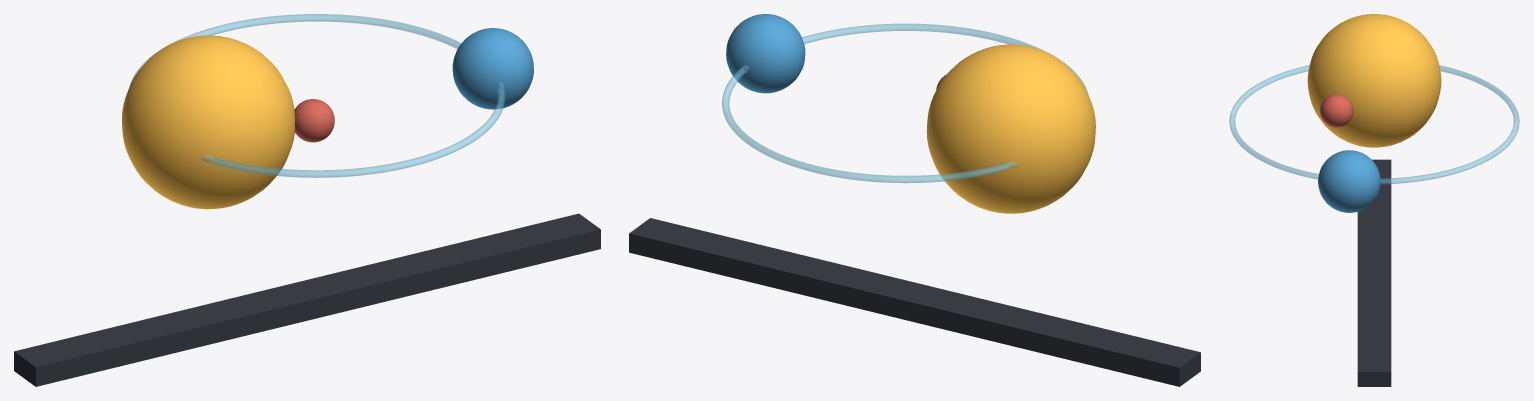
Rendered from space-barycenter.glb.
3 views of the same model, side by side, from view 1: azimuth 30°, elevation 25°; view 2: azimuth 150°, elevation 25°; view 3: azimuth 270°, elevation 25° (orthographic). The views are drawn at different scales.
Visible parts, largest first — view 1: gravity-orbit-bench, heavy-body-barycenter-large, lighter-body-barycenter-small, shared-orbit-center-path, barycenter-balance-point; view 2: gravity-orbit-bench, heavy-body-barycenter-large, lighter-body-barycenter-small, shared-orbit-center-path; view 3: heavy-body-barycenter-large, gravity-orbit-bench, lighter-body-barycenter-small, shared-orbit-center-path, barycenter-balance-point.
Boxes of the visible parts, <box> form: gravity-orbit-bench: <box>14,213,600,386</box>; heavy-body-barycenter-large: <box>122,35,294,209</box>; lighter-body-barycenter-small: <box>452,28,533,109</box>; shared-orbit-center-path: <box>130,14,505,177</box>; barycenter-balance-point: <box>294,99,334,142</box>; gravity-orbit-bench: <box>629,218,1200,386</box>; heavy-body-barycenter-large: <box>926,44,1095,213</box>; lighter-body-barycenter-small: <box>726,14,805,93</box>; shared-orbit-center-path: <box>722,23,1087,183</box>; heavy-body-barycenter-large: <box>1307,14,1441,147</box>; gravity-orbit-bench: <box>1357,159,1391,386</box>; lighter-body-barycenter-small: <box>1318,150,1380,212</box>; shared-orbit-center-path: <box>1229,65,1519,184</box>; barycenter-balance-point: <box>1320,94,1353,127</box>.
Size of what is drawn, in the model's own units: 2.4 by 1.18 by 1.39.
